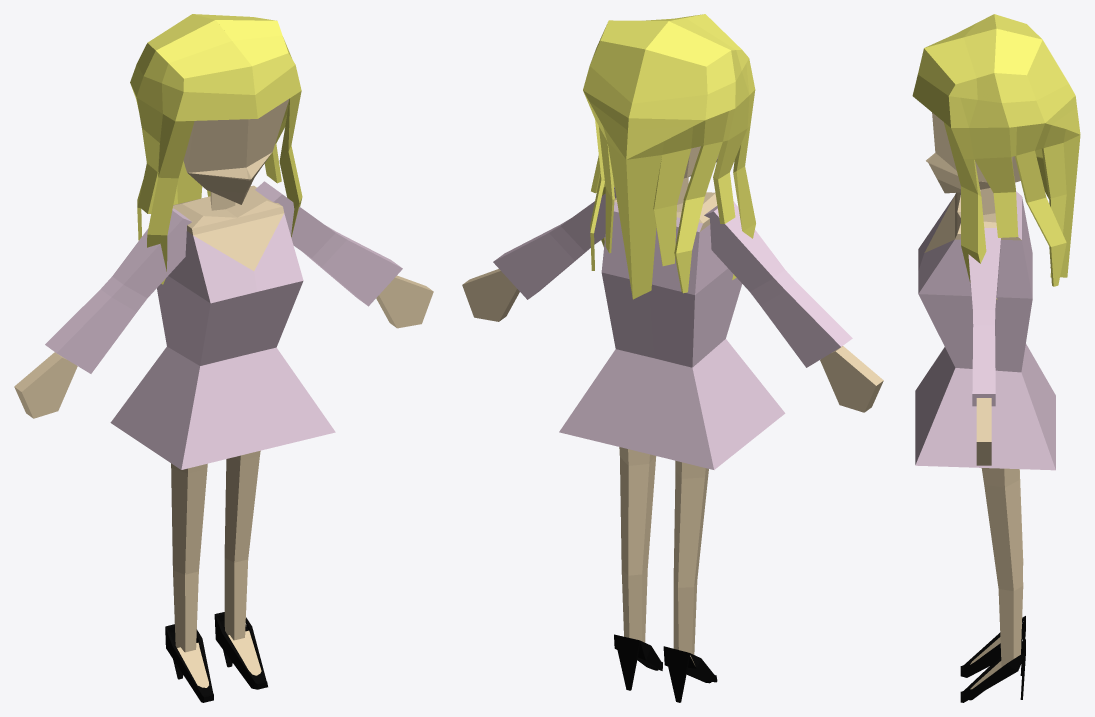
File: valentinModel.glb
The picture shows the model from 3 angles, left to right: view 1: azimuth 30°, elevation 25°; view 2: azimuth 150°, elevation 25°; view 3: azimuth 270°, elevation 25°; orthographic projection.
Parts seen in each view (by area): view 1: Cube.019, Plane.001, Cube.020, Cylinder.008, Cube.017, Plane.002; view 2: Plane.001, Cube.019, Cube.020, Cylinder.008, Cube.017, Plane.002; view 3: Plane.001, Cube.019, Cylinder.008, Cube.020, Plane.002, Cube.017, Cylinder.007.
Part boxes in pixels (left/top/right/bottom): Cube.019: left=110, top=185, right=335, bottom=469; Plane.001: left=130, top=14, right=302, bottom=284; Cube.020: left=45, top=181, right=402, bottom=373; Cylinder.008: left=171, top=450, right=260, bottom=652; Cube.017: left=14, top=275, right=433, bottom=418; Plane.002: left=165, top=612, right=267, bottom=702; Plane.001: left=583, top=14, right=755, bottom=299; Cube.019: left=559, top=192, right=785, bottom=469; Cube.020: left=493, top=187, right=852, bottom=367; Cylinder.008: left=619, top=447, right=708, bottom=661; Cube.017: left=462, top=269, right=883, bottom=412; Plane.002: left=614, top=634, right=717, bottom=702; Plane.001: left=912, top=14, right=1080, bottom=299; Cube.019: left=915, top=191, right=1055, bottom=470; Cylinder.008: left=981, top=468, right=1023, bottom=666; Cube.020: left=968, top=190, right=1000, bottom=406; Plane.002: left=960, top=616, right=1025, bottom=702; Cube.017: left=976, top=398, right=991, bottom=465; Cylinder.007: left=980, top=188, right=995, bottom=214.
Bounding box in the file's own units: 1.19 × 1.82 × 0.4222.
